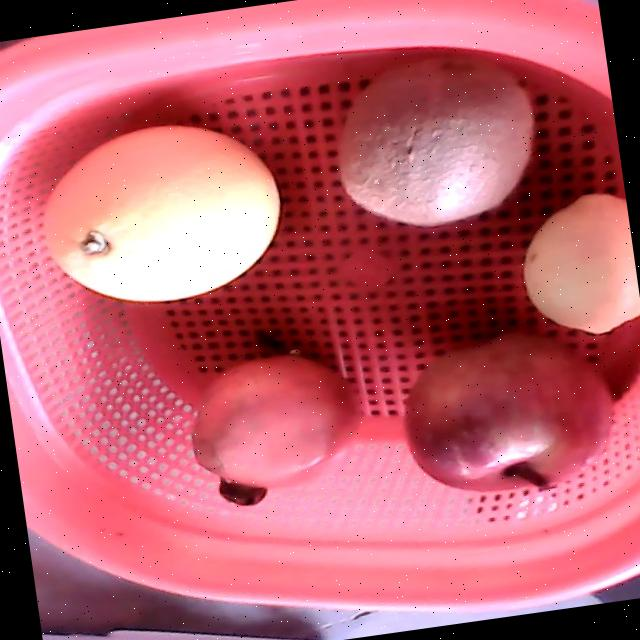apple: (399, 331, 616, 492)
kiwi: (337, 51, 533, 228)
lemon: (523, 193, 640, 336)
orange: (40, 125, 280, 302)
pomegranate: (190, 353, 365, 507)
